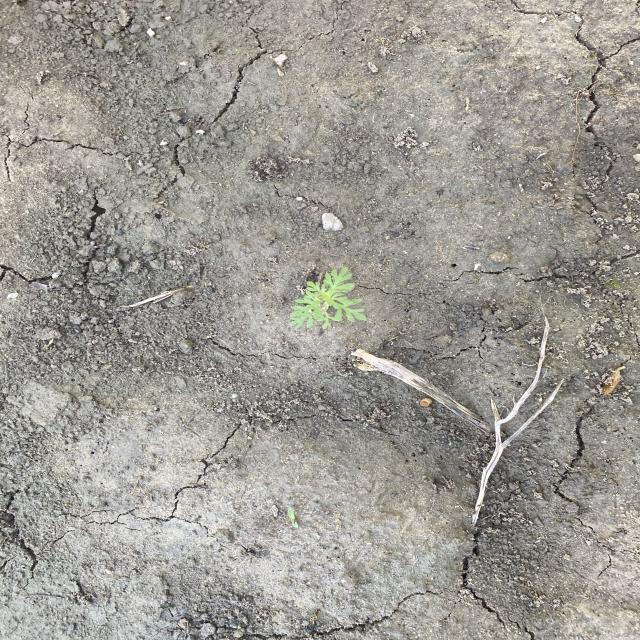Ragweed: (285, 265, 370, 332)
